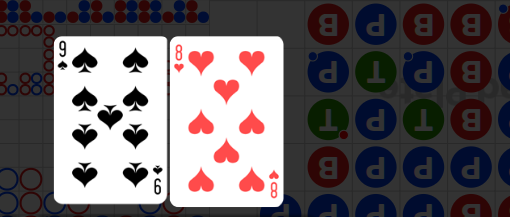8H: (267, 167, 280, 199)
9S: (56, 40, 69, 73)
